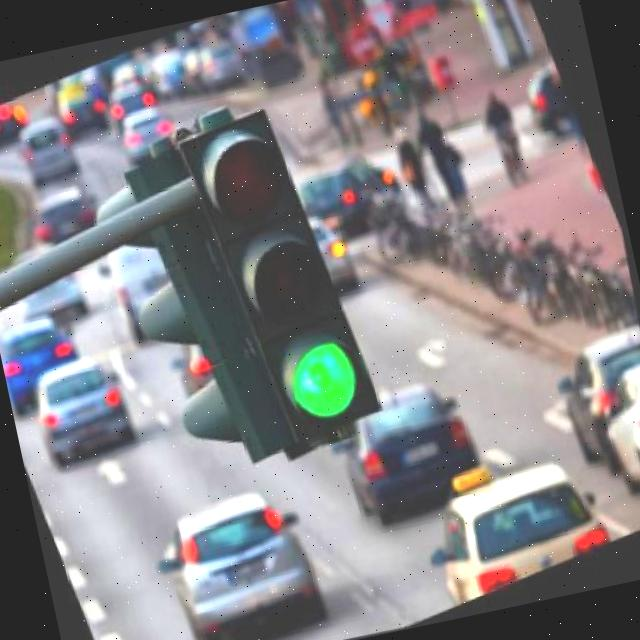green_light: (78, 58, 440, 496)
